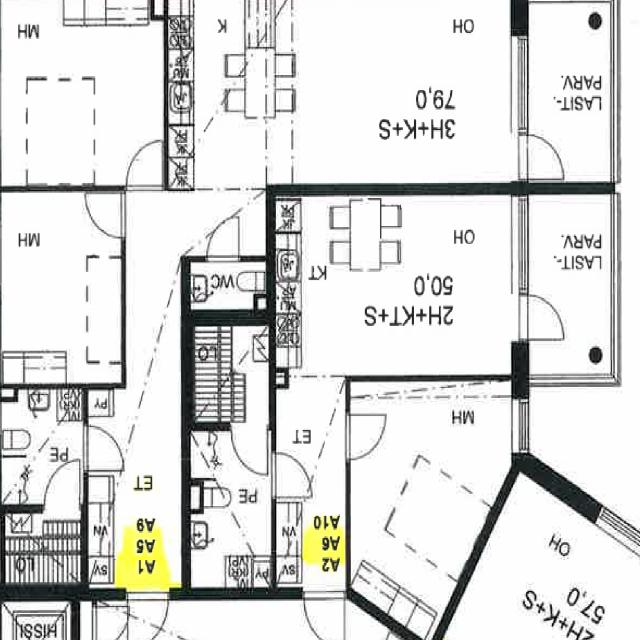door: (510, 133, 564, 178), (125, 588, 169, 640), (81, 425, 126, 472), (44, 462, 79, 514), (86, 196, 125, 238), (127, 143, 160, 192), (206, 214, 238, 260)
